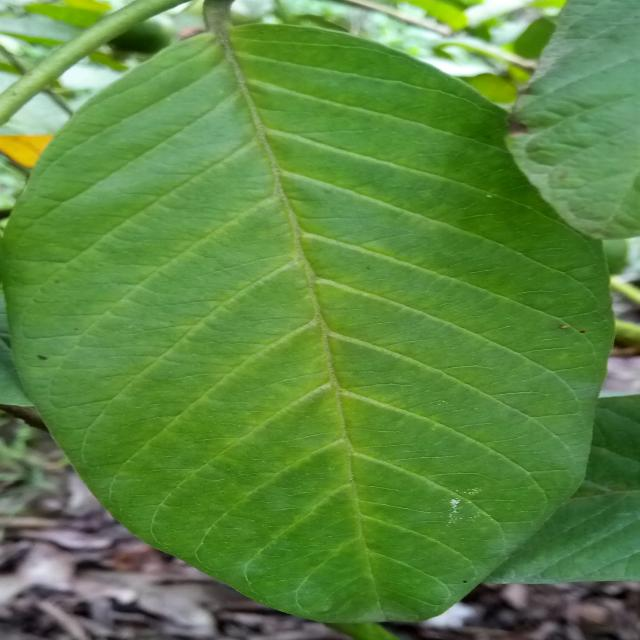Disease Free: (4, 2, 612, 622), (509, 0, 639, 239)
